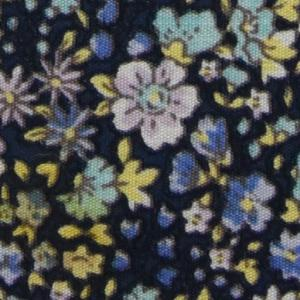Oil Stain: (1, 165, 118, 300)
